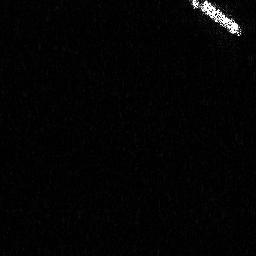ship: (190, 1, 243, 37)
